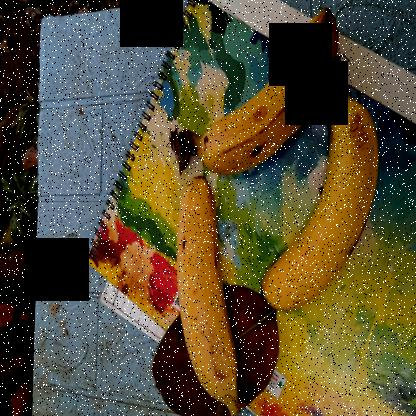freshripe: (165, 175, 254, 412)
ripe: (258, 77, 387, 322), (195, 1, 345, 183)
